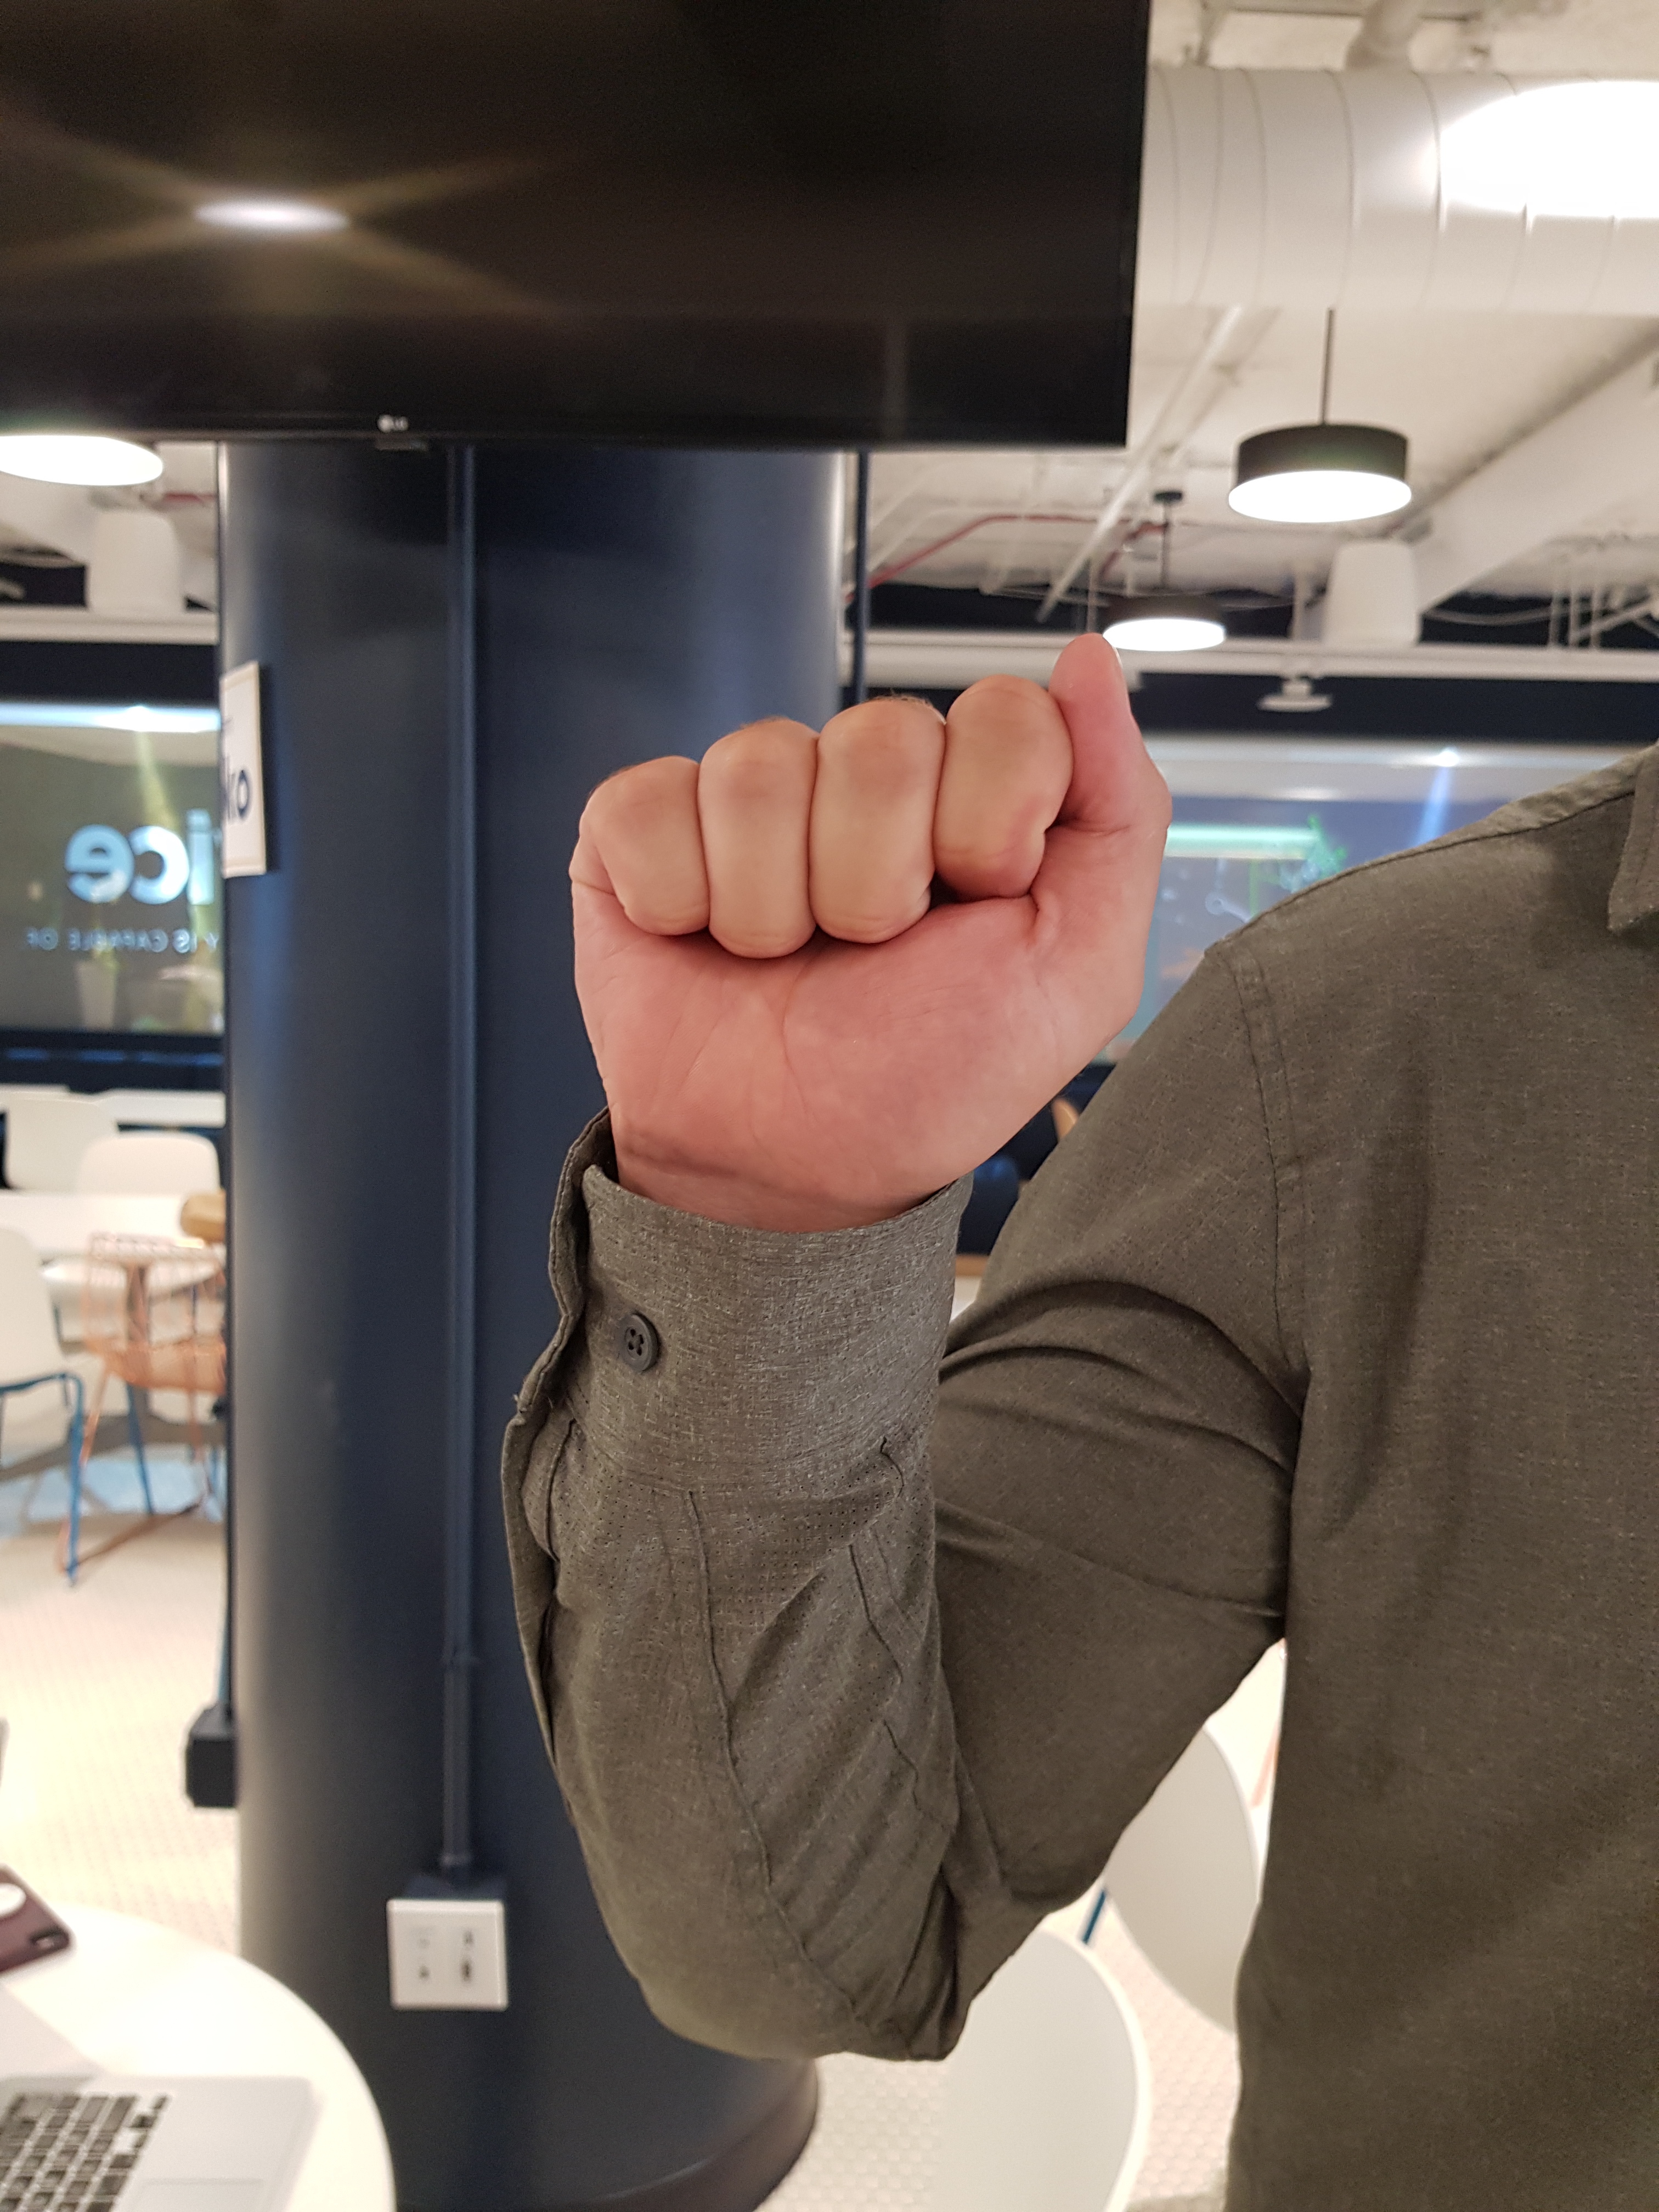a: (537, 611, 1206, 1249)
